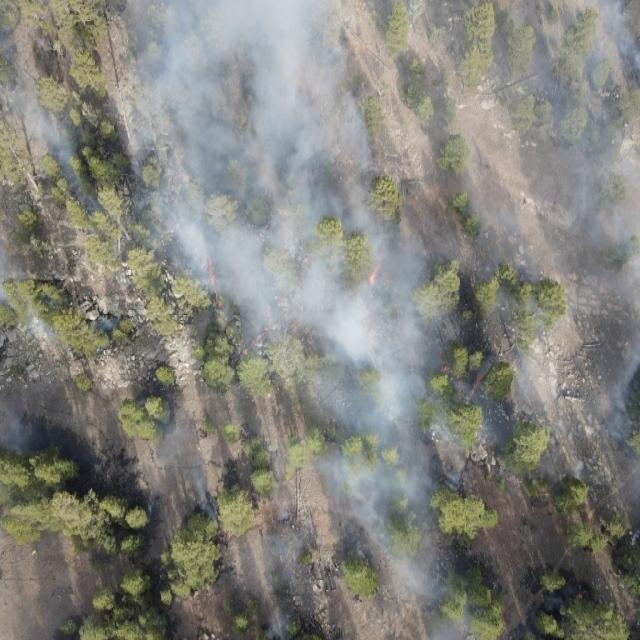fire: (199, 254, 227, 310), (238, 325, 273, 359), (464, 371, 486, 404), (367, 256, 385, 290), (438, 359, 454, 375), (574, 588, 584, 603)
smoke: (0, 0, 640, 200), (136, 198, 640, 406), (313, 404, 490, 640), (490, 405, 640, 533), (248, 451, 306, 640), (0, 225, 65, 359), (143, 426, 224, 532), (0, 398, 46, 468), (81, 306, 122, 336)
